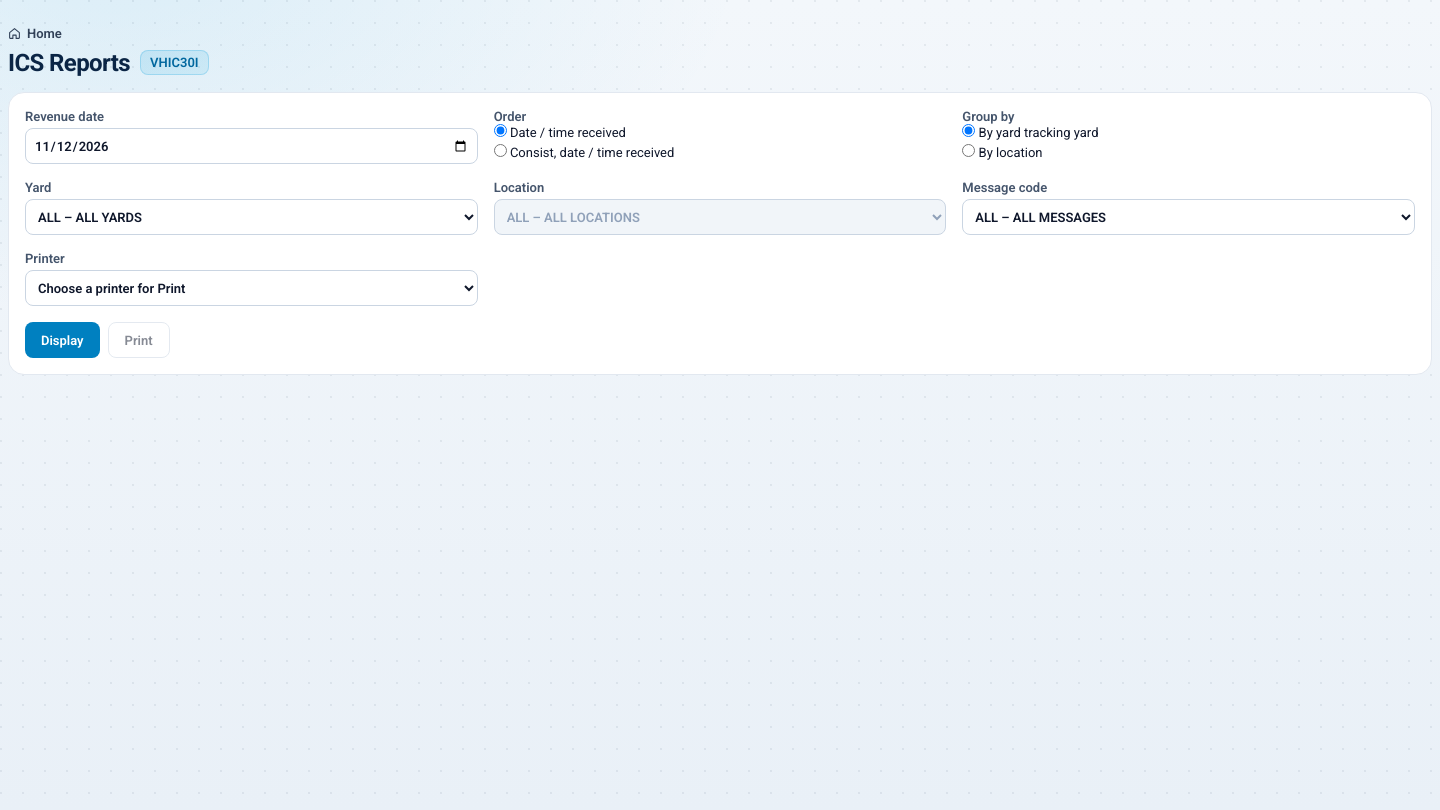
ICS reports page (old VHIC30I / VHIC31I) › Print needs a printer, then sends the report to it
Expected: the date field labelled "Revenue date" is shown, [25,128,478,164]
Expected: the button "Print" is disabled, [108,322,170,358]
Select "IT (LKS11HP1)" in the dropdown labelled "Printer" at (251, 288), box [25,270,478,306]
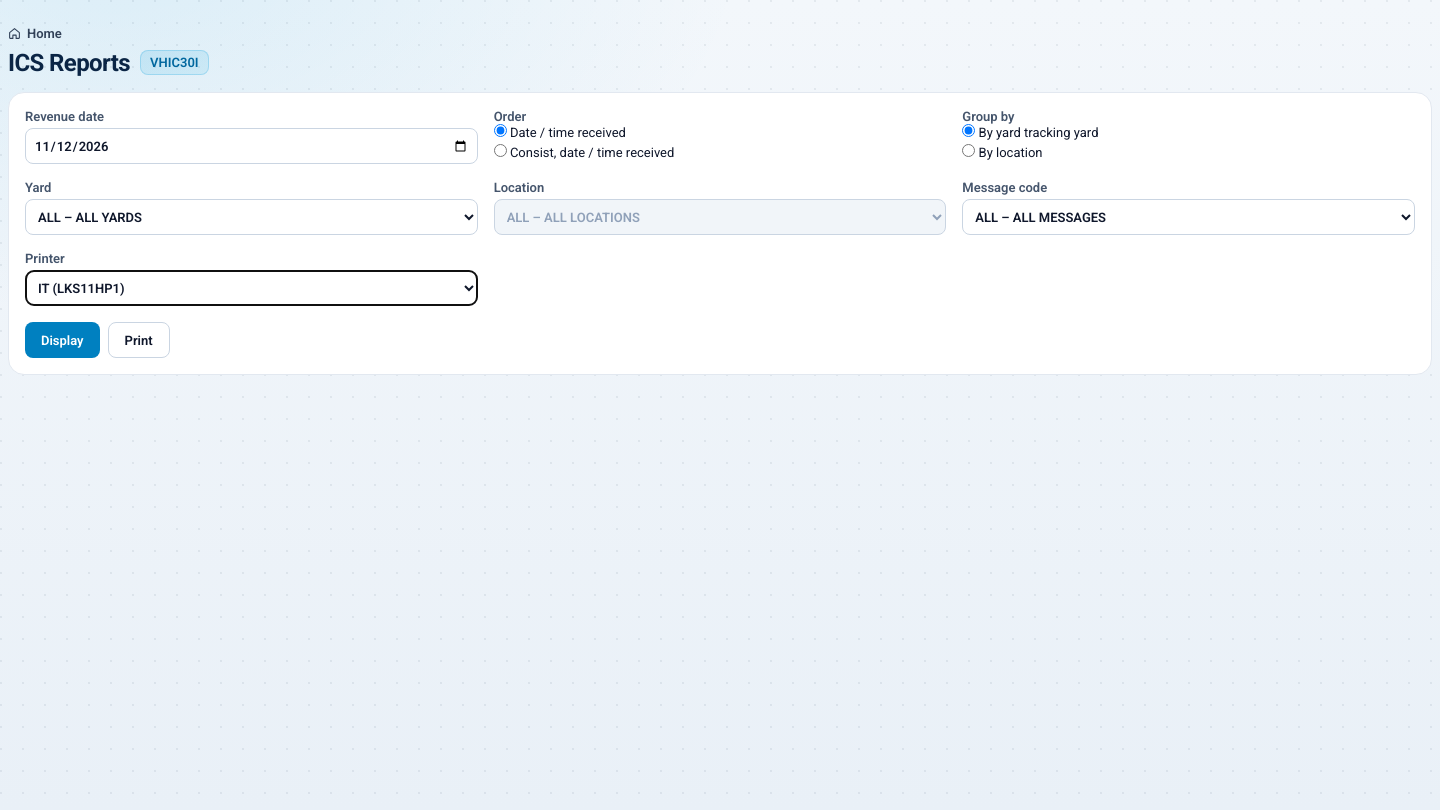
Click the button "Print".
click(139, 340)  # box [108,322,170,358]
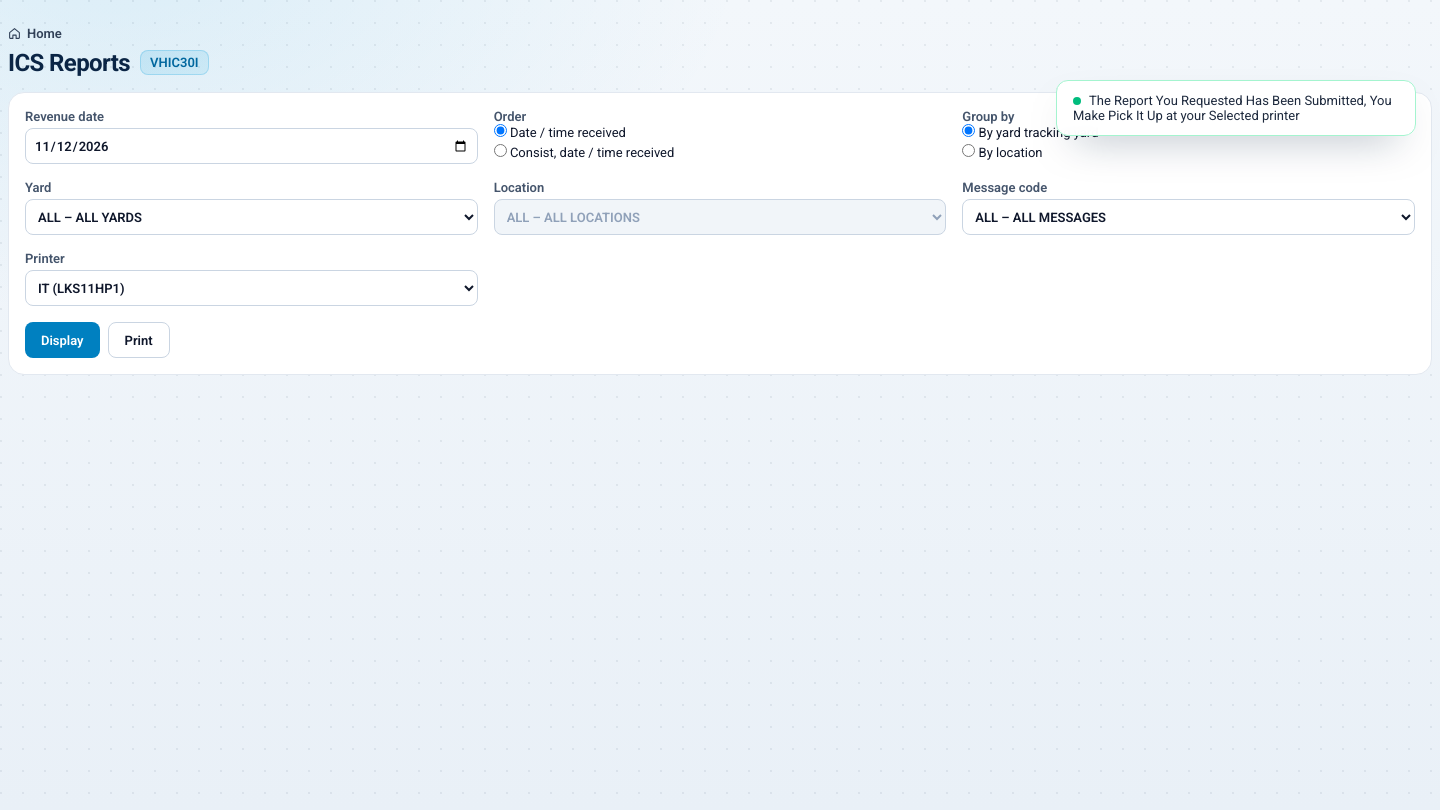
Result: the text "Has Been Submitted" is shown at [1073,93,1392,123]
